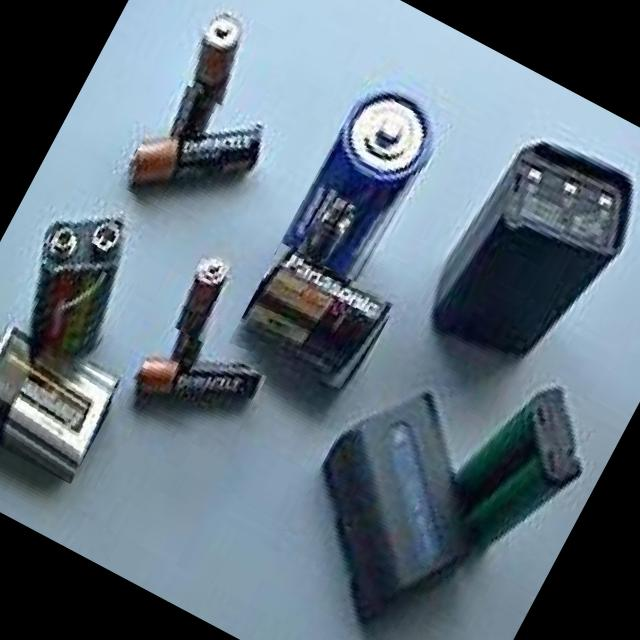Hazard: (274, 71, 452, 298), (0, 184, 159, 367), (228, 242, 398, 406), (116, 78, 278, 240), (0, 310, 126, 484), (123, 322, 266, 452), (154, 8, 262, 148), (151, 250, 244, 373)
